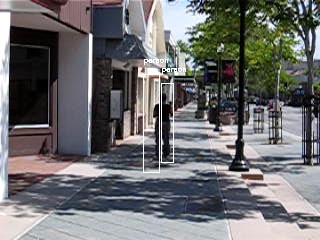person: (153, 95, 175, 162), (152, 95, 174, 162), (154, 95, 176, 162), (153, 94, 175, 161), (153, 96, 175, 163)
target_negative: (67, 86, 272, 165), (106, 132, 196, 222), (147, 91, 184, 212), (101, 150, 177, 203), (78, 91, 320, 103), (57, 218, 224, 229)
